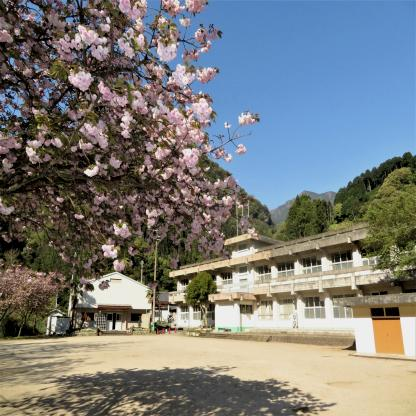YaeSakura: (1, 2, 254, 292), (19, 258, 61, 318), (0, 251, 18, 324)
